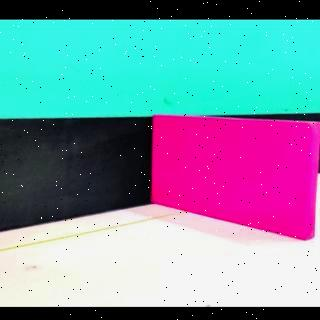xparking: (155, 126, 313, 235)
